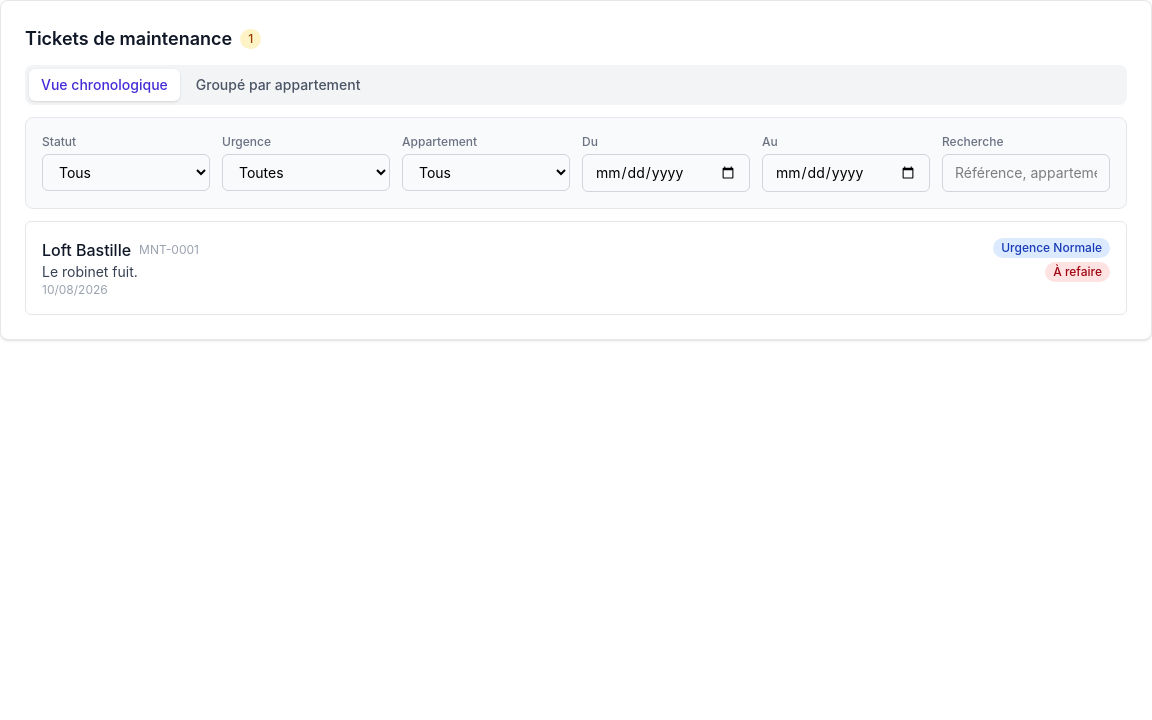
Test: TicketsMaintenanceSection › affiche un ticket à refaire en lecture seule avec l'historique des refus, sans formulaire d'assignation
This screenshot has width=1152, height=720.
Click the text "Le robinet fuit.": (90, 272) [42, 263, 138, 280]
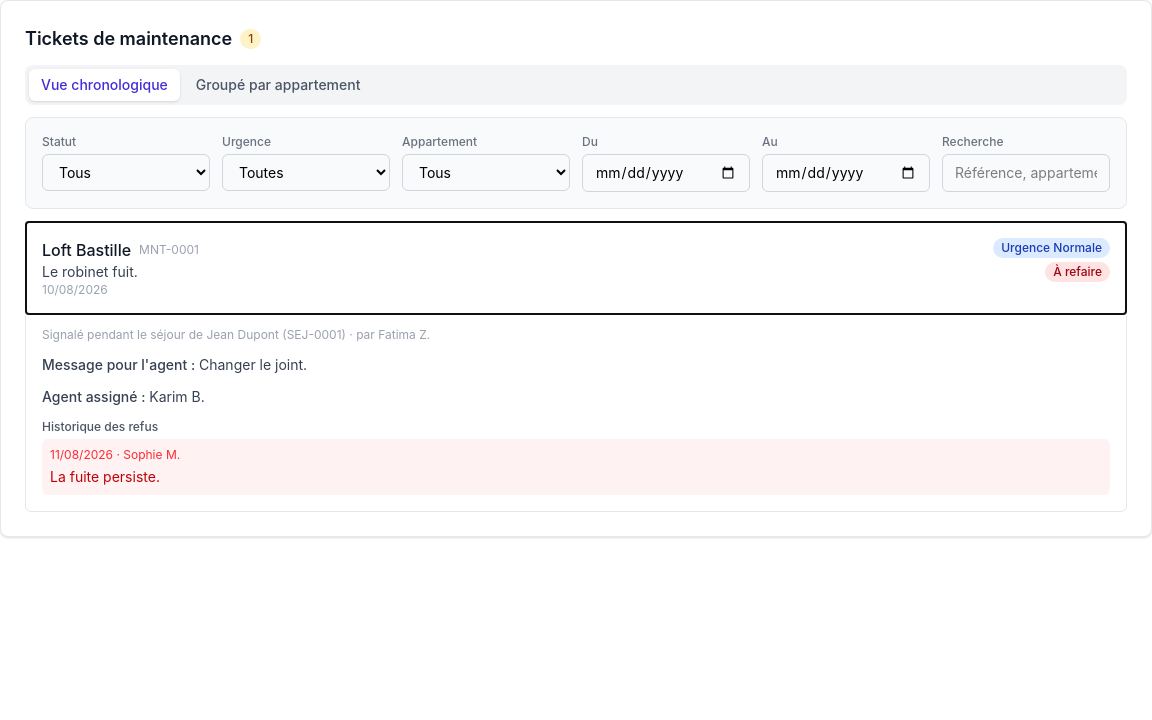
expect the text "Karim B." is shown: met, box [149, 388, 205, 405]
expect the text "La fuite persiste." is shown: met, box [50, 468, 160, 485]
